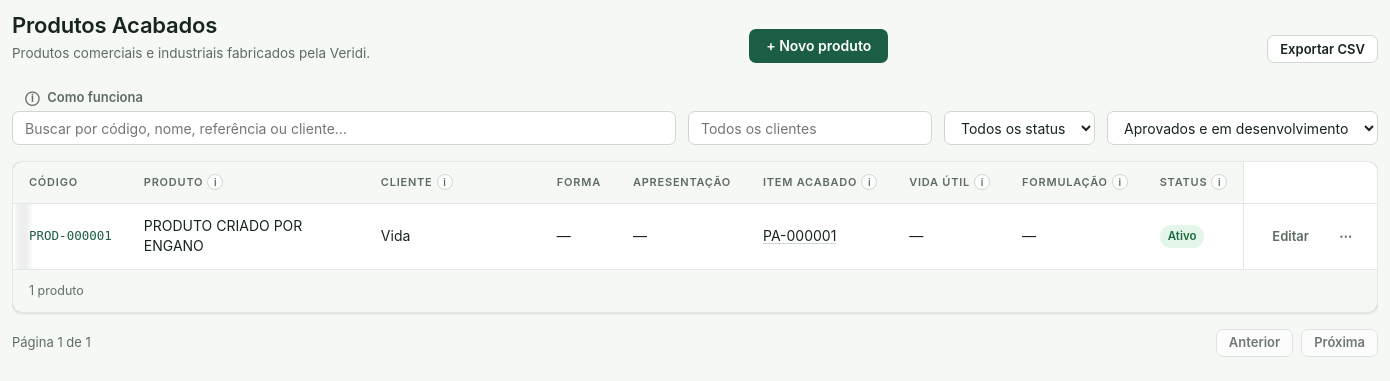
Test case: quem vê › Comercial mantém o Produto, mas não exclui definitivamente
The width and height of the screenshot is (1390, 381).
Check: the text "PROD-000001" is shown, box left=13, top=204, right=128, bottom=269
Click the button named "Mais ações de PROD-000001" at (1346, 236), box left=1330, top=222, right=1361, bottom=250
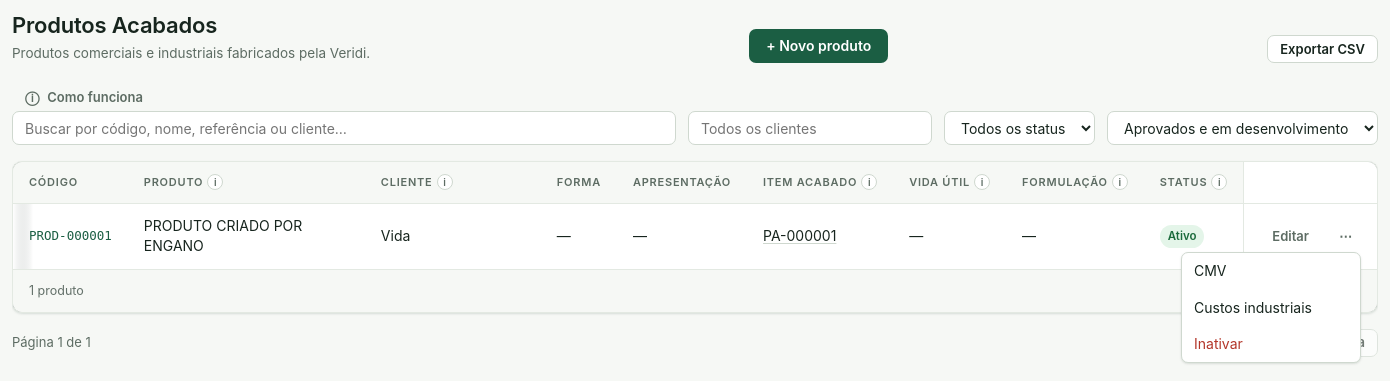
Check: the menu item "Inativar" is shown, box left=1182, top=326, right=1360, bottom=362
